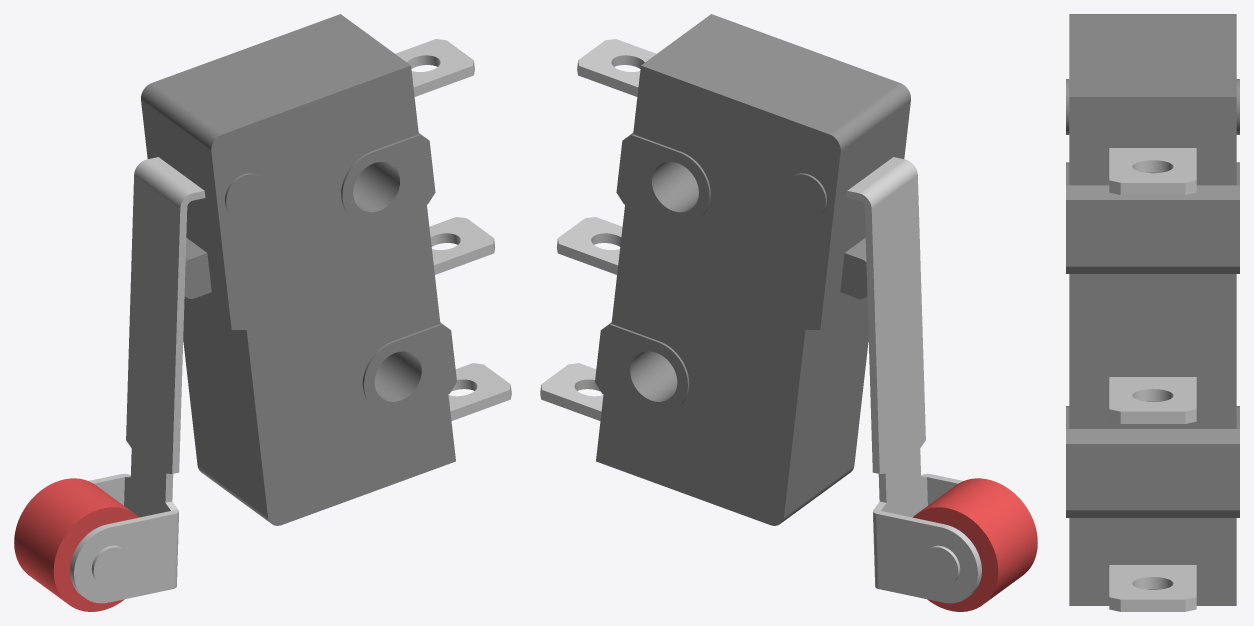
The model's file is Roller_Lever_Limit_Switch___3103_0001_0001.gltf.
3 renders of one model, left to right at view 1: azimuth 30°, elevation 25°; view 2: azimuth 150°, elevation 25°; view 3: azimuth 270°, elevation 25°, orthographic. The views are drawn at different scales.
Visible parts, largest first — view 1: mesh20527, mesh20611, mesh20529, mesh20530, mesh20588, mesh20619, mesh20628, mesh20540, mesh20549, mesh20629, mesh20601, mesh20542 (+9 smaller); view 2: mesh20558, mesh20611, mesh20529, mesh20530, mesh20588, mesh20620, mesh20628, mesh20545, mesh20554, mesh20627, mesh20600, mesh20542 (+9 smaller); view 3: mesh20570, mesh20529, mesh20579, mesh20541, mesh20550, mesh20561, mesh20586, mesh20576, mesh20567, mesh20543, mesh20553, mesh20544 (+7 smaller).
Boxes of the visible parts, <box> form: mesh20527: <box>211,65,455,525</box>; mesh20611: <box>124,175,180,517</box>; mesh20529: <box>152,14,410,134</box>; mesh20530: <box>183,296,267,516</box>; mesh20588: <box>141,100,231,329</box>; mesh20619: <box>74,514,174,603</box>; mesh20628: <box>14,478,131,602</box>; mesh20540: <box>364,325,456,413</box>; mesh20549: <box>342,135,435,223</box>; mesh20629: <box>53,507,138,611</box>; mesh20601: <box>172,191,205,473</box>; mesh20542: <box>374,351,421,401</box>; mesh20558: <box>596,65,840,525</box>; mesh20611: <box>871,175,927,517</box>; mesh20529: <box>641,14,899,134</box>; mesh20530: <box>784,296,868,516</box>; mesh20588: <box>820,100,910,329</box>; mesh20620: <box>877,514,977,603</box>; mesh20628: <box>920,478,1037,602</box>; mesh20545: <box>595,325,687,413</box>; mesh20554: <box>616,135,709,223</box>; mesh20627: <box>913,507,998,611</box>; mesh20600: <box>846,191,879,473</box>; mesh20542: <box>630,351,677,401</box>; mesh20570: <box>1069,274,1236,428</box>; mesh20529: <box>1069,15,1236,96</box>; mesh20579: <box>1069,97,1236,185</box>; mesh20541: <box>1066,444,1239,510</box>; mesh20550: <box>1066,200,1239,266</box>; mesh20561: <box>1069,518,1236,605</box>; mesh20586: <box>1109,148,1196,182</box>; mesh20576: <box>1109,377,1196,411</box>; mesh20567: <box>1109,565,1196,599</box>; mesh20543: <box>1066,429,1239,443</box>; mesh20553: <box>1066,185,1239,199</box>; mesh20544: <box>1066,510,1239,517</box>.
Bounding box in the file's own units: 0.0236 × 0.0235 × 0.00644.
